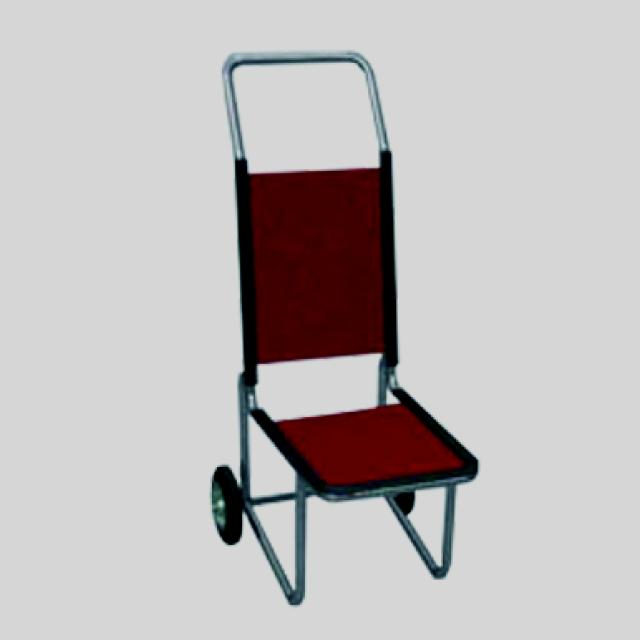Chair: (212, 46, 482, 609)
